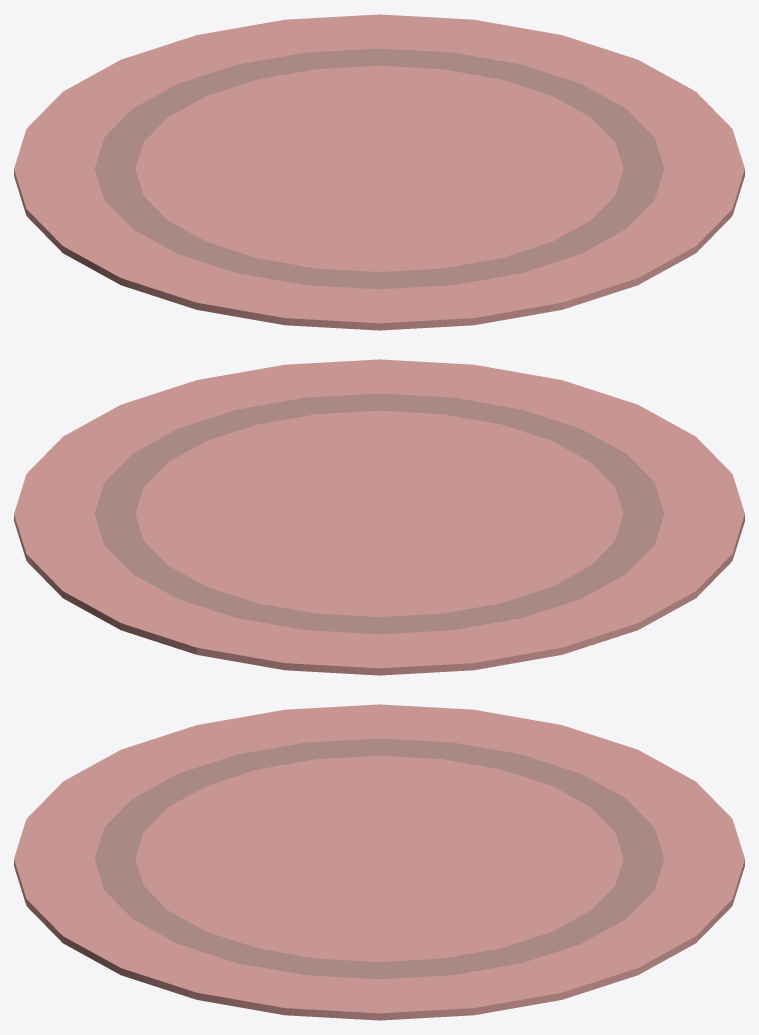
Rendered from rug_round.glb.
3 renders of one model, top to bottom at view 1: azimuth 30°, elevation 25°; view 2: azimuth 150°, elevation 25°; view 3: azimuth 270°, elevation 25°, orthographic.
Visible parts, largest first — view 1: rugRound(Clone); view 2: rugRound(Clone); view 3: rugRound(Clone).
Part boxes in pixels (box(x1,y1,x2,y2)): rugRound(Clone): box(14, 14, 744, 330); rugRound(Clone): box(14, 359, 744, 675); rugRound(Clone): box(14, 704, 744, 1020).
Bounding box in the file's own units: 1.93 × 0.021 × 1.93.
